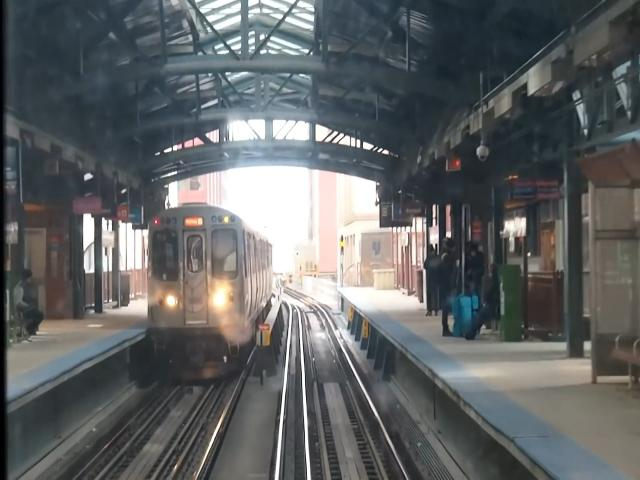signal light: (340, 235, 346, 259)
